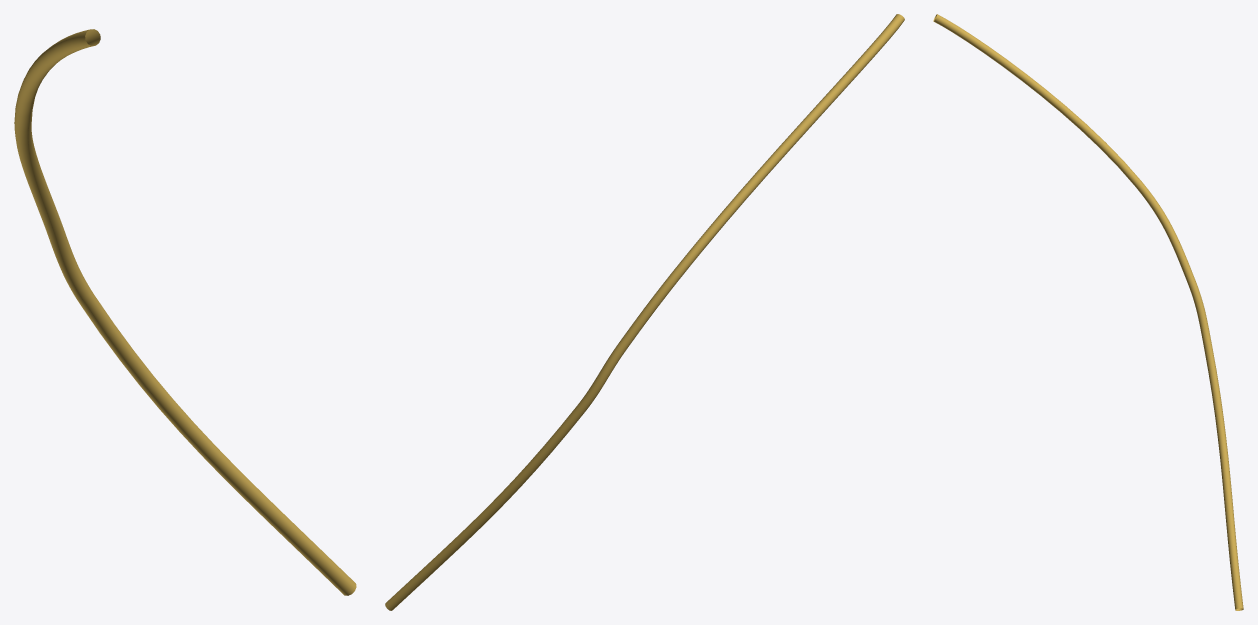
The picture shows the model from 3 angles, left to right: view 1: azimuth 30°, elevation 25°; view 2: azimuth 150°, elevation 25°; view 3: azimuth 270°, elevation 25°; orthographic projection. The views are drawn at different scales.
Visible parts, largest first — view 1: 左侧足底外侧神经; view 2: 左侧足底外侧神经; view 3: 左侧足底外侧神经.
Boxes of the visible parts, x1=… form: 左侧足底外侧神经: x1=14, y1=29, x2=356, y2=595; 左侧足底外侧神经: x1=385, y1=14, x2=904, y2=610; 左侧足底外侧神经: x1=933, y1=14, x2=1243, y2=610.
Bounding box in the file's own units: 0.0565 × 0.0869 × 0.053.
